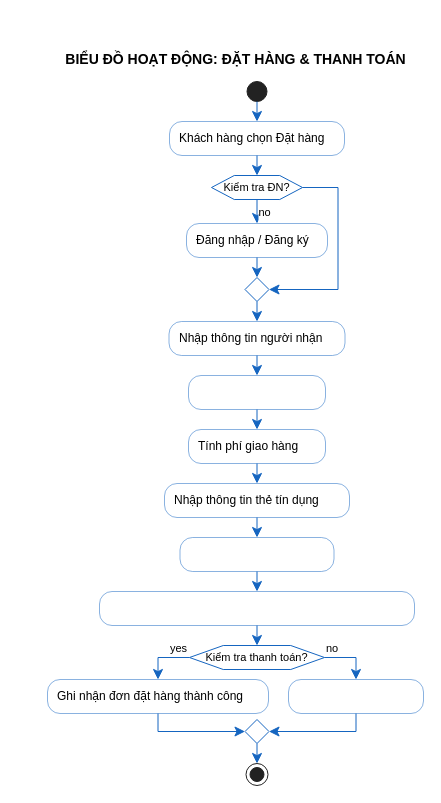
Some shapes in this 441 by 803 pixel diagram are drawn without their labels. Here are the shapes that lost their labels. From the top down, the centre of each, then its label:
At point 256,392: "Chọn loại giao hàng".
At point 256,554: "Gửi yêu cầu thanh toán".
At point 256,608: "Dịch vụ thanh toán trực tuyến kiểm tra thanh toán".
At point 355,696: "Thanh toán thất bại".
